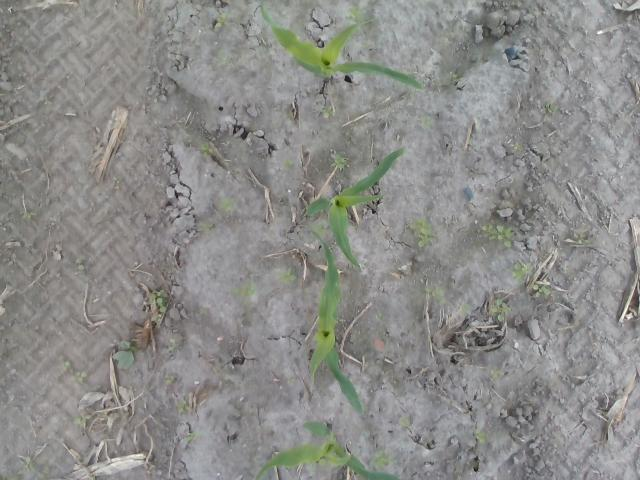Maize: (259, 2, 425, 94), (306, 148, 407, 268), (306, 227, 364, 418), (254, 420, 402, 480)
Weeds: (480, 222, 516, 248), (407, 218, 433, 248), (62, 361, 89, 383), (113, 341, 134, 369), (492, 299, 514, 325), (148, 291, 168, 317), (235, 282, 256, 304), (370, 451, 392, 471), (510, 264, 532, 284), (424, 284, 446, 304), (276, 268, 296, 286), (18, 457, 38, 474), (331, 154, 349, 172), (72, 414, 91, 431), (532, 282, 552, 298), (214, 12, 230, 28), (349, 5, 364, 22), (168, 338, 180, 359), (460, 301, 475, 317), (473, 431, 488, 445), (194, 222, 214, 232), (184, 431, 202, 442), (220, 198, 234, 212), (422, 117, 436, 131), (490, 368, 504, 381), (320, 105, 335, 117), (77, 257, 89, 272), (200, 145, 212, 159), (575, 233, 589, 244), (282, 156, 294, 168), (446, 71, 460, 81), (21, 210, 35, 220), (219, 55, 233, 64), (546, 104, 559, 113), (400, 416, 411, 426), (165, 374, 174, 386), (177, 401, 189, 410), (113, 176, 123, 186), (375, 313, 384, 324), (512, 141, 522, 150), (288, 378, 296, 386)
